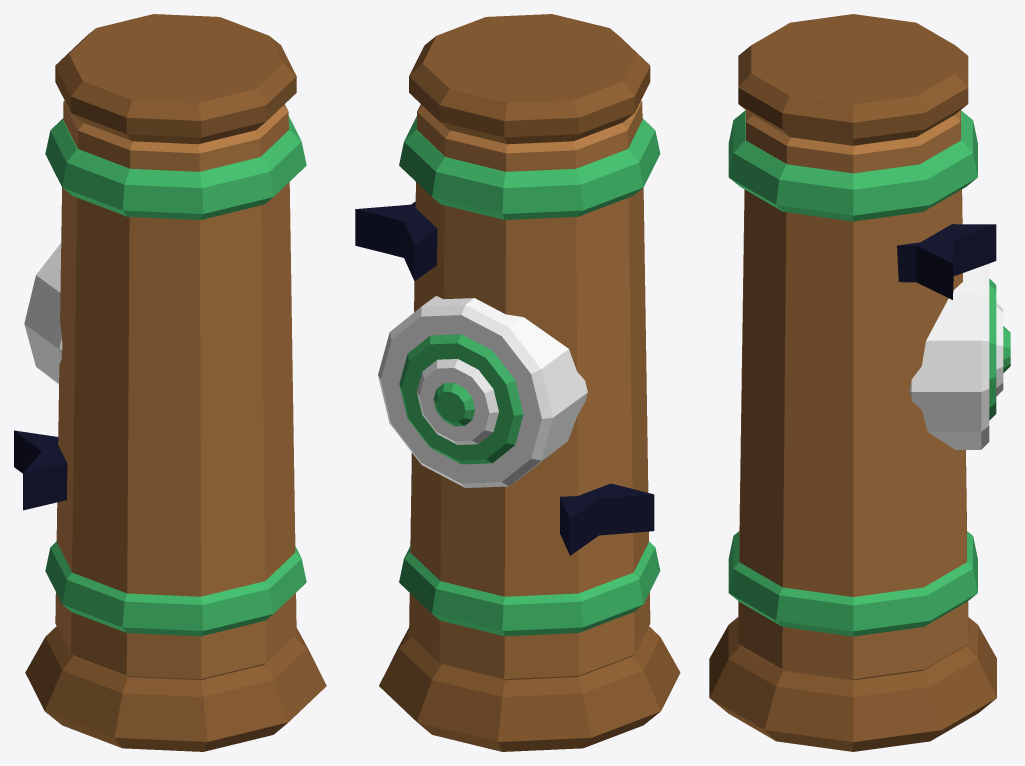
Rendered from Prop_ninja_village_TrainingLog.glb.
The picture shows the model from 3 angles, left to right: view 1: azimuth 30°, elevation 25°; view 2: azimuth 150°, elevation 25°; view 3: azimuth 270°, elevation 25°; orthographic projection.
Parts seen in each view (by area): view 1: Wood_B5793F, WoodDark_8A5A2B, LeafGreen_3FBF6A, White_FFFFFF, Ink_0D0F2B; view 2: Wood_B5793F, WoodDark_8A5A2B, LeafGreen_3FBF6A, White_FFFFFF, Ink_0D0F2B; view 3: Wood_B5793F, WoodDark_8A5A2B, LeafGreen_3FBF6A, White_FFFFFF, Ink_0D0F2B.
Boxes of the visible parts, x1=… form: Wood_B5793F: x1=55, y1=100, x2=296, y2=680; WoodDark_8A5A2B: x1=25, y1=14, x2=326, y2=751; LeafGreen_3FBF6A: x1=45, y1=116, x2=306, y2=636; White_FFFFFF: x1=24, y1=243, x2=62, y2=384; Ink_0D0F2B: x1=14, y1=430, x2=67, y2=510; Wood_B5793F: x1=409, y1=101, x2=650, y2=680; WoodDark_8A5A2B: x1=379, y1=14, x2=680, y2=751; LeafGreen_3FBF6A: x1=399, y1=116, x2=660, y2=636; White_FFFFFF: x1=378, y1=296, x2=587, y2=487; Ink_0D0F2B: x1=355, y1=201, x2=654, y2=555; Wood_B5793F: x1=738, y1=110, x2=968, y2=680; WoodDark_8A5A2B: x1=709, y1=14, x2=996, y2=751; LeafGreen_3FBF6A: x1=728, y1=110, x2=1010, y2=636; White_FFFFFF: x1=909, y1=263, x2=1003, y2=449; Ink_0D0F2B: x1=897, y1=224, x2=996, y2=299.
Bounding box in the file's own units: 3.09 × 6.98 × 2.99.
